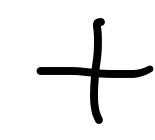plus: (37, 18, 153, 124)
